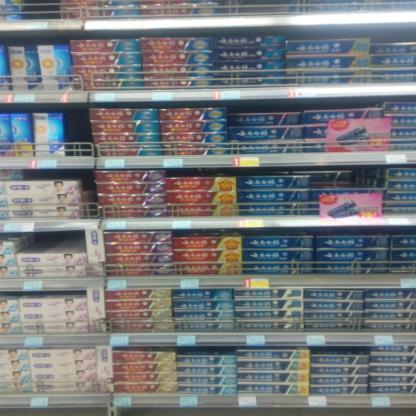Void: (24, 233, 83, 251), (316, 170, 376, 187), (66, 112, 88, 154), (288, 28, 368, 39)
